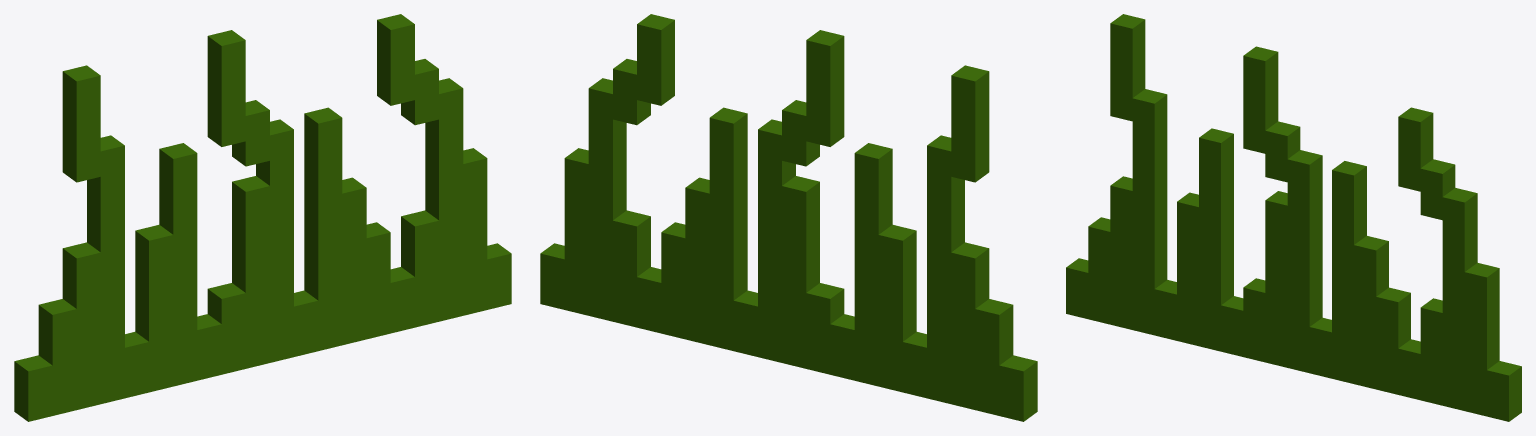
The model's file is GrassModel1.fbx.
3 renders of one model, left to right at view 1: azimuth 30°, elevation 25°; view 2: azimuth 150°, elevation 25°; view 3: azimuth 330°, elevation 25°, orthographic. The views are drawn at different scales.
Visible parts, largest first — view 1: GrassModel1; view 2: GrassModel1; view 3: GrassModel1.
Part boxes in pixels (left/top/right/bottom): GrassModel1: left=14, top=14, right=511, bottom=421; GrassModel1: left=540, top=14, right=1037, bottom=421; GrassModel1: left=1066, top=14, right=1521, bottom=421.
Bounding box in the file's own units: 1.08 × 0.7046 × 0.0542.
